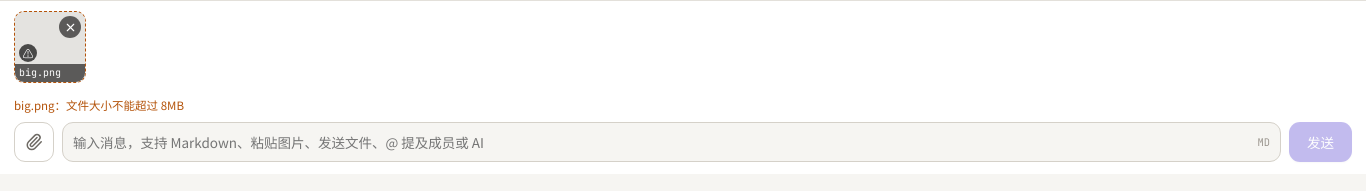
超过 8MB 的图片 › 粘贴图片走同一套校验
Click the button titled "移除附件" at point(70, 27), box [57, 14, 83, 40]
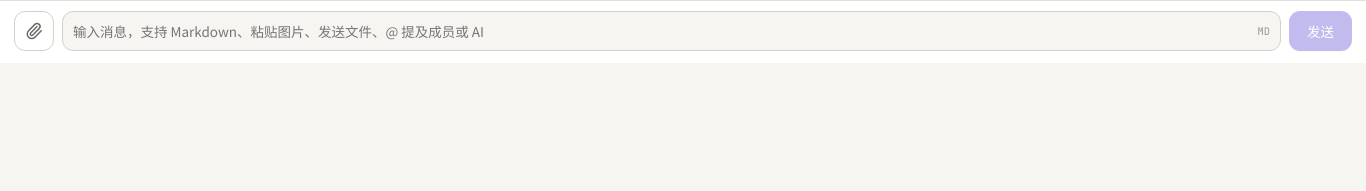
Expected: the element with class "attach" is gone
